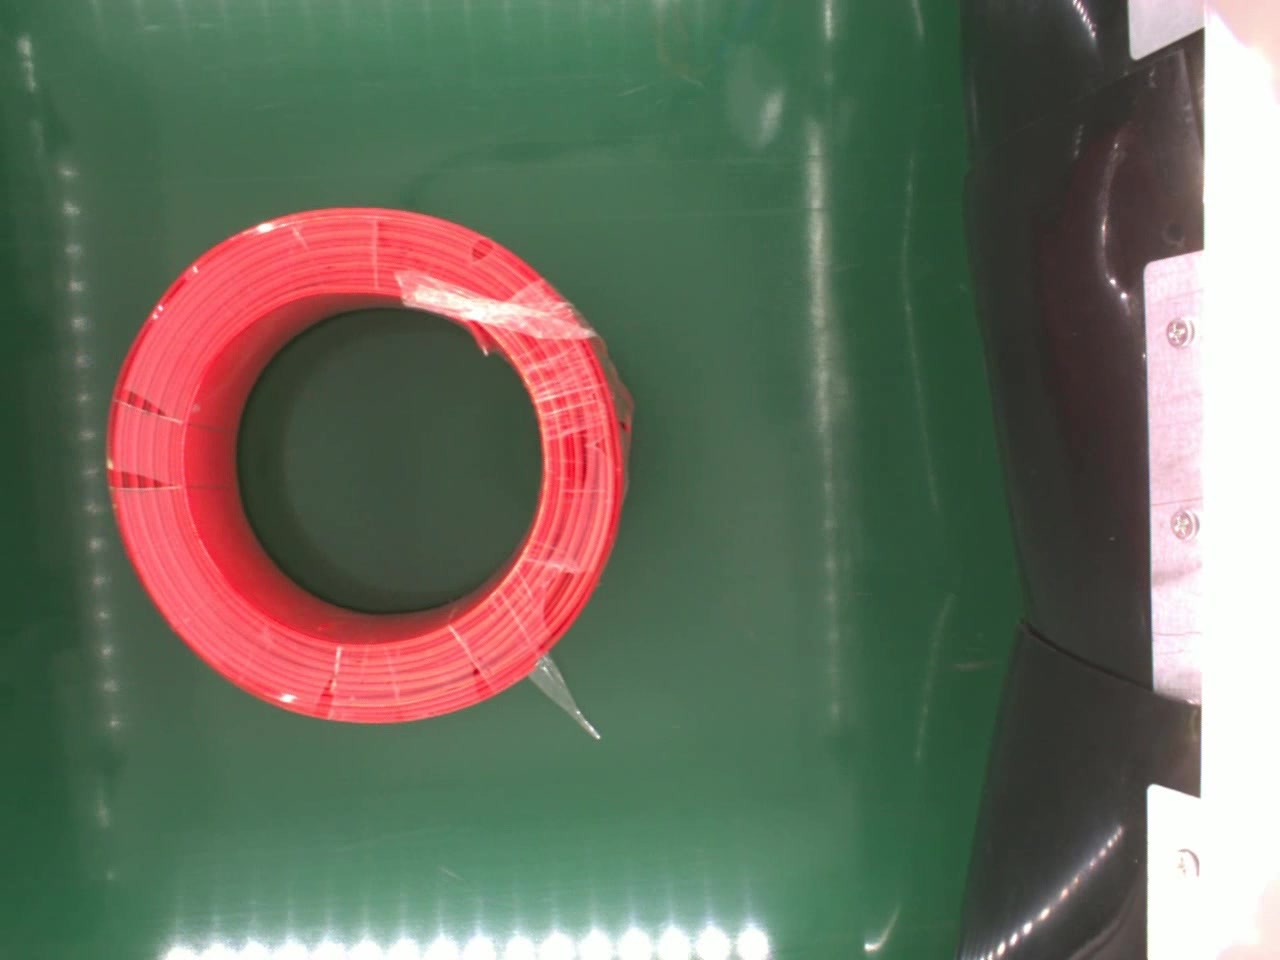red: (103, 206, 624, 728)
